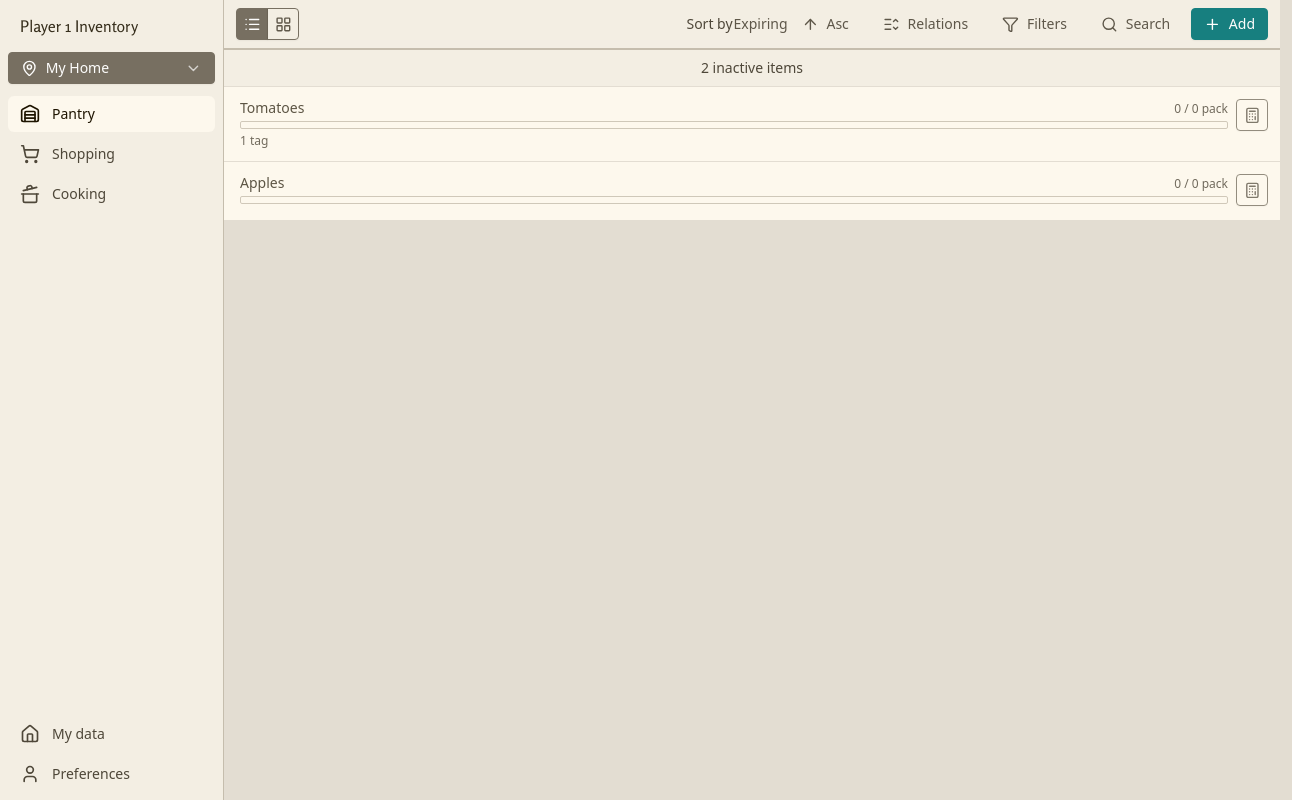
it: Home page filtering integration › clears filters when clear button clicked in FilterStatus
Expected: the heading "Tomatoes" is shown, top-left (240, 99), bottom-right (304, 116)
# Enable filters and select a tag
Click the button with aria-label "toggle filters". click: (1035, 24)
box: top-left (989, 8), bottom-right (1080, 40)
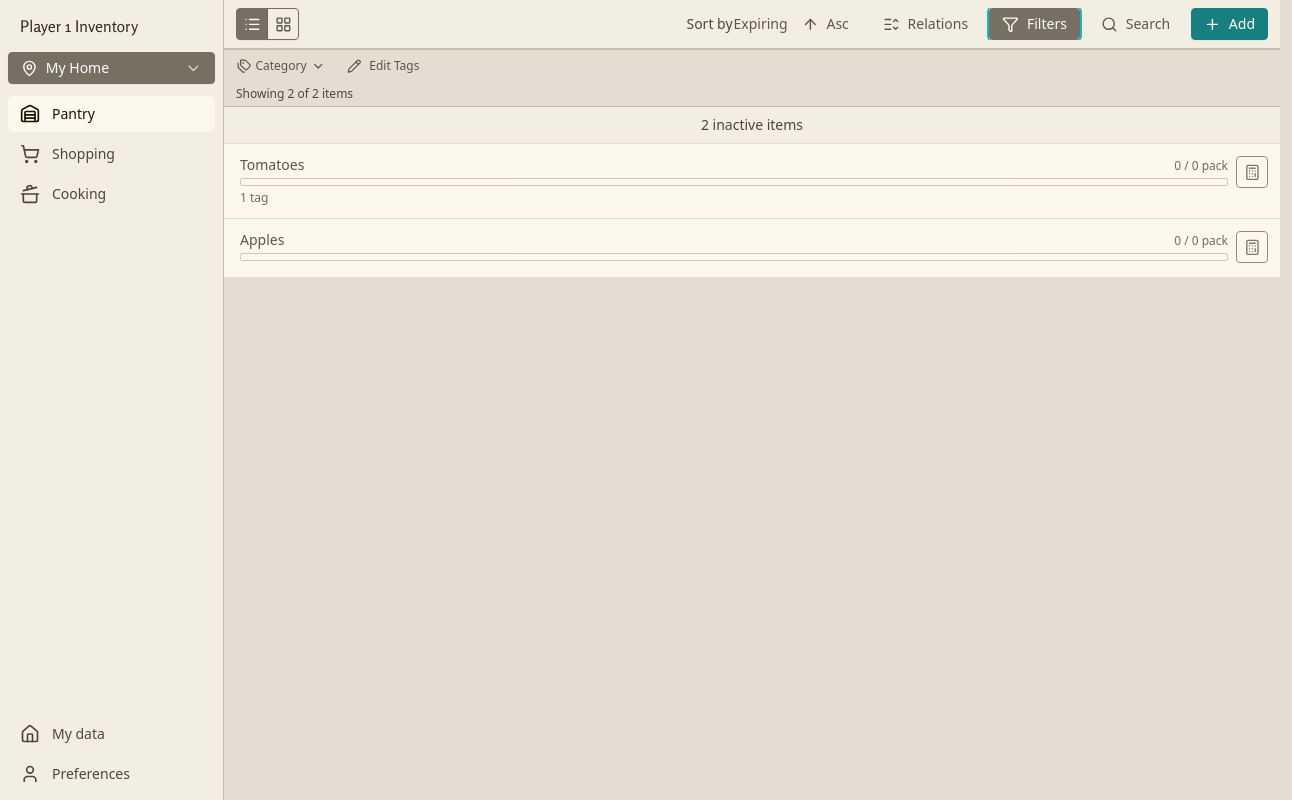
Click the button "Category". click: (281, 66)
box: top-left (228, 54), bottom-right (334, 78)
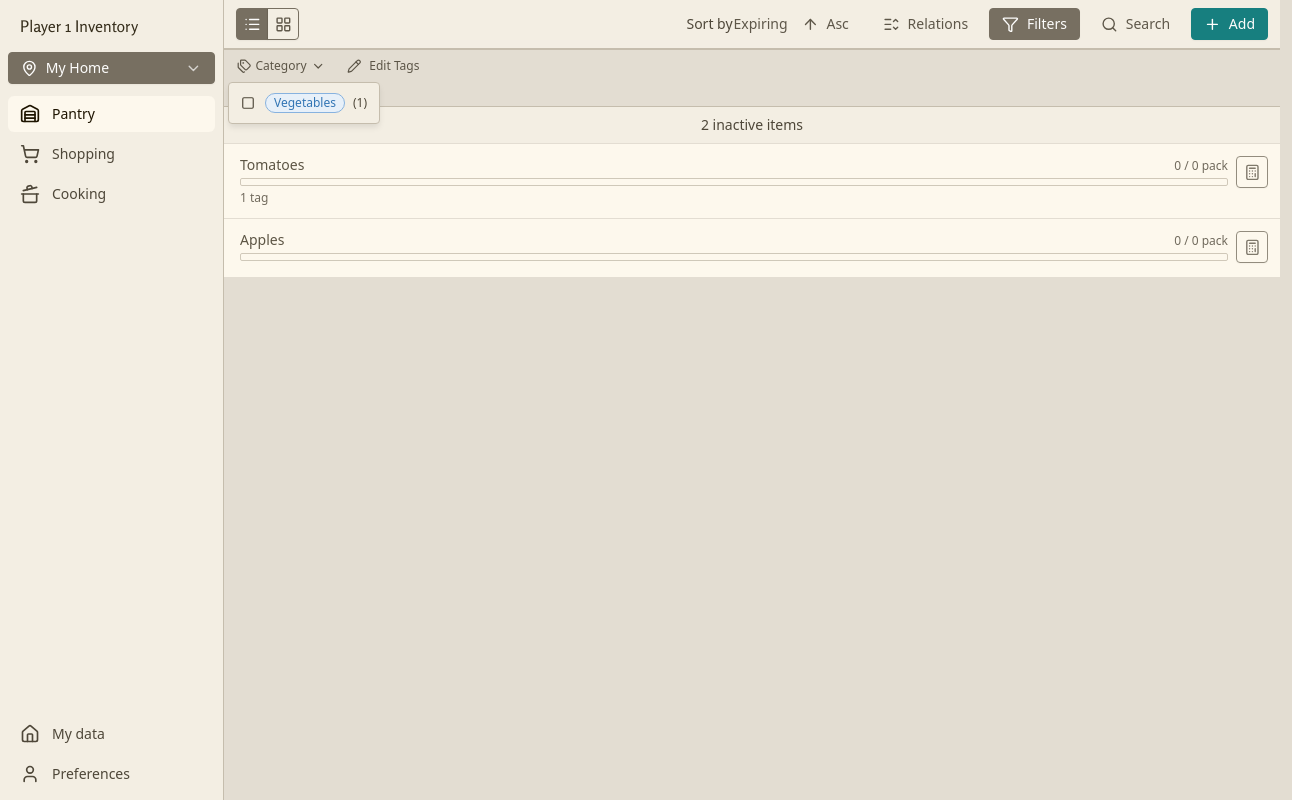
Click the menu item "Vegetables (1)". click: (304, 103)
box: top-left (233, 87), bottom-right (375, 119)
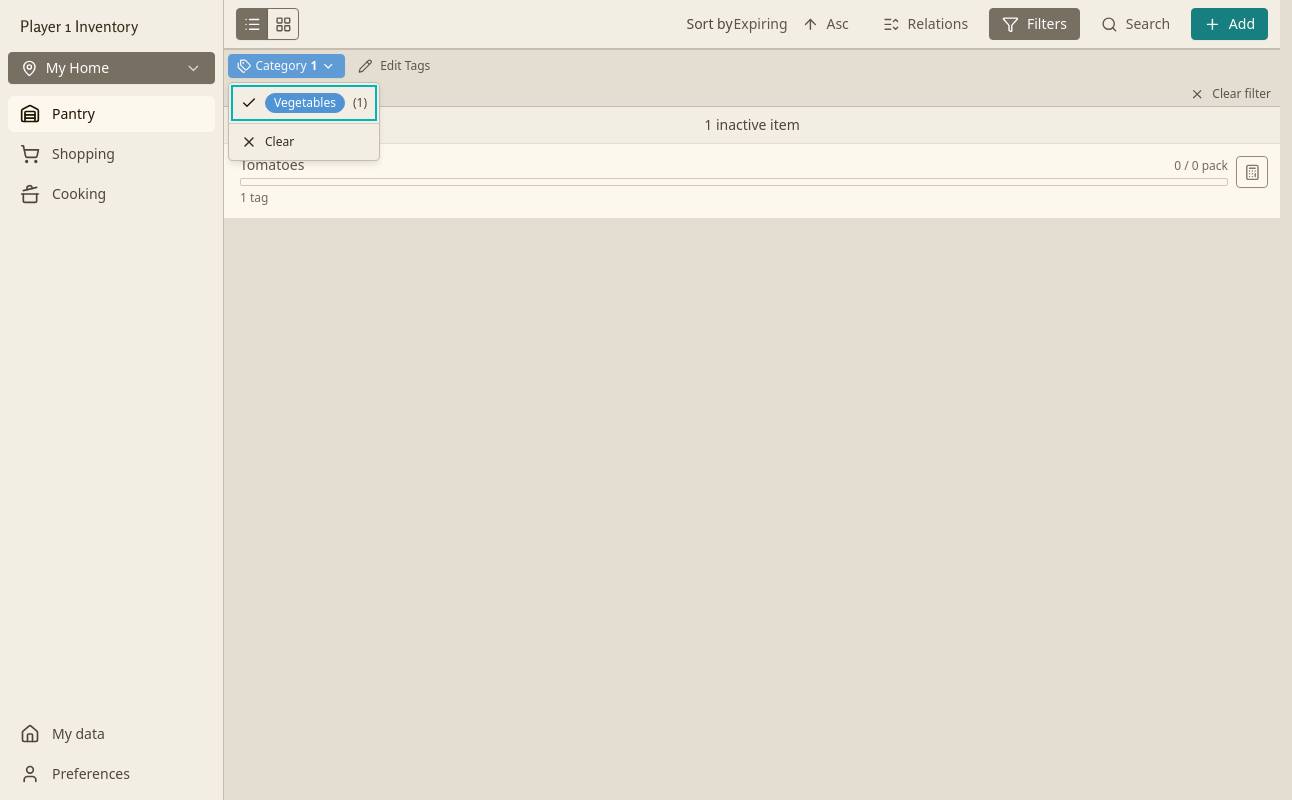
Expected: the heading "Tomatoes" is shown, top-left (240, 156), bottom-right (304, 174)
Result: the link "Apples" is gone
# Close dropdown and toggle filters OFF
Press Escape
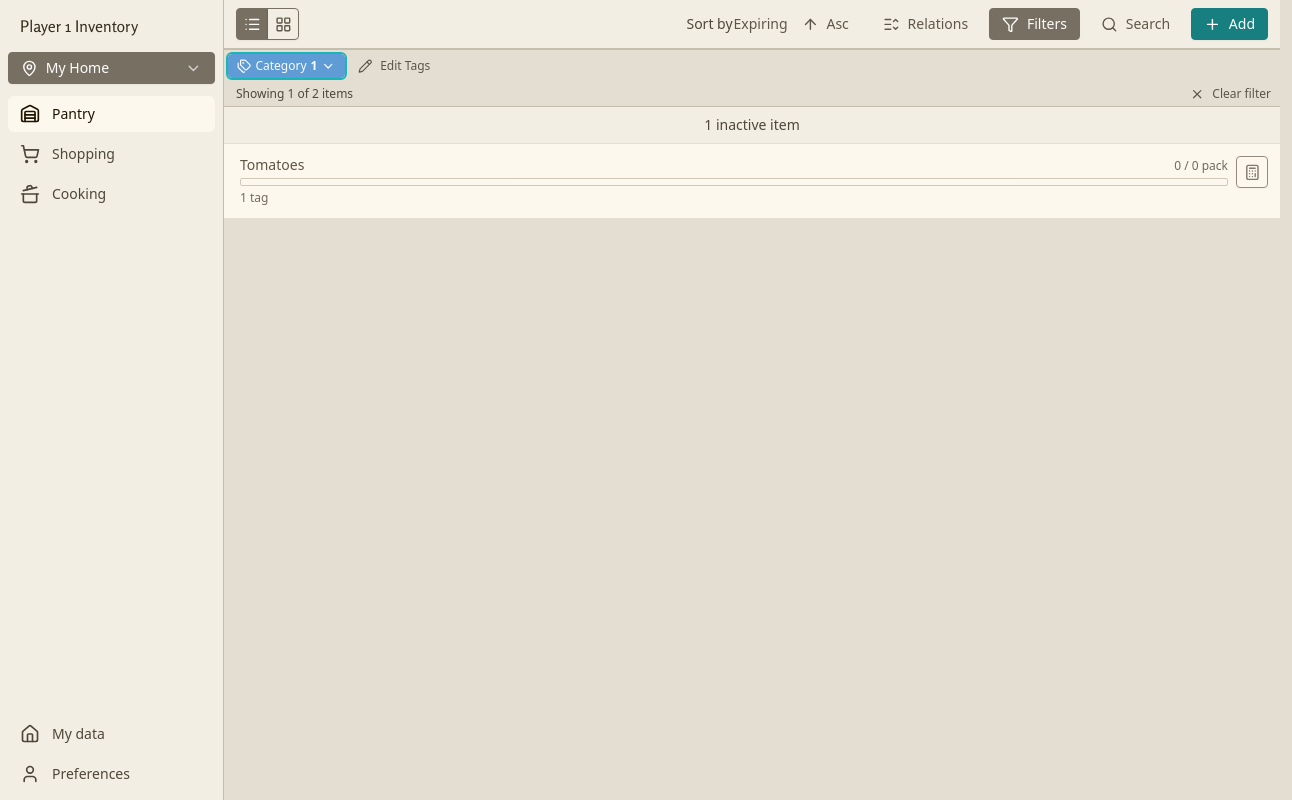
Click the button with aria-label "toggle filters". click: (1035, 24)
box: top-left (989, 8), bottom-right (1080, 40)
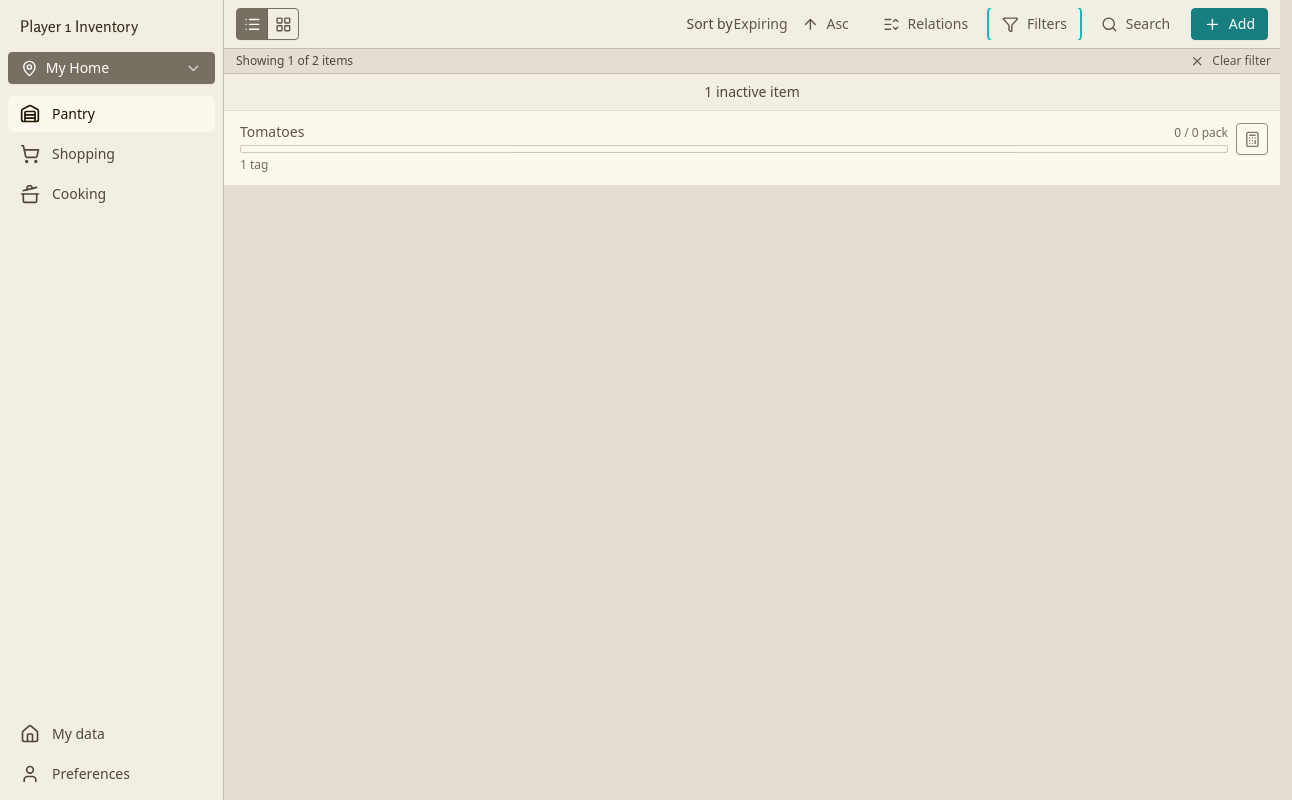
Result: the text "Showing 1 of 2 items" is shown at top-left (236, 53), bottom-right (353, 69)
# Click clear button in FilterStatus
Click the button "Clear filter". click: (1230, 61)
box: top-left (1181, 49), bottom-right (1280, 73)
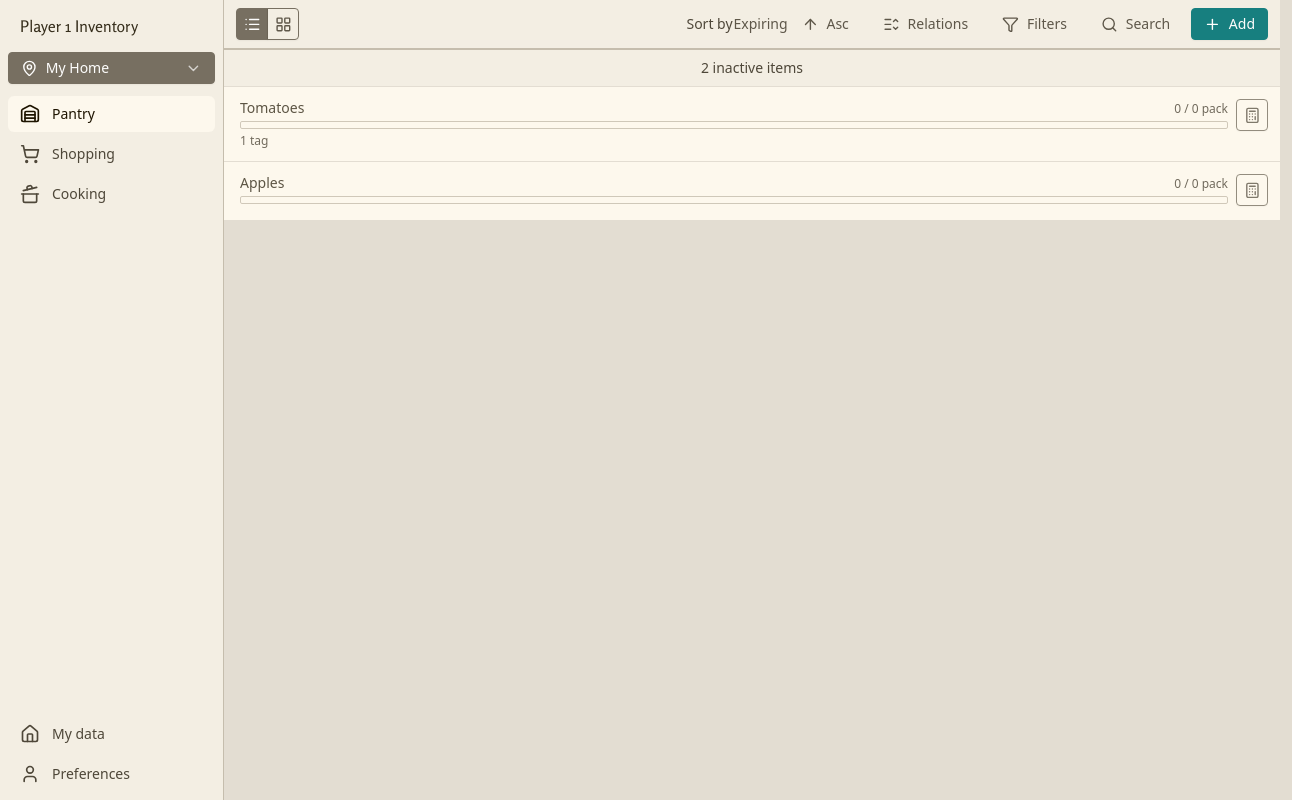
Expected: the heading "Tomatoes" is shown, top-left (240, 99), bottom-right (304, 116)
Result: the heading "Apples" is shown at top-left (240, 174), bottom-right (284, 192)
Result: the text "Showing 1 of 2 items" is gone
